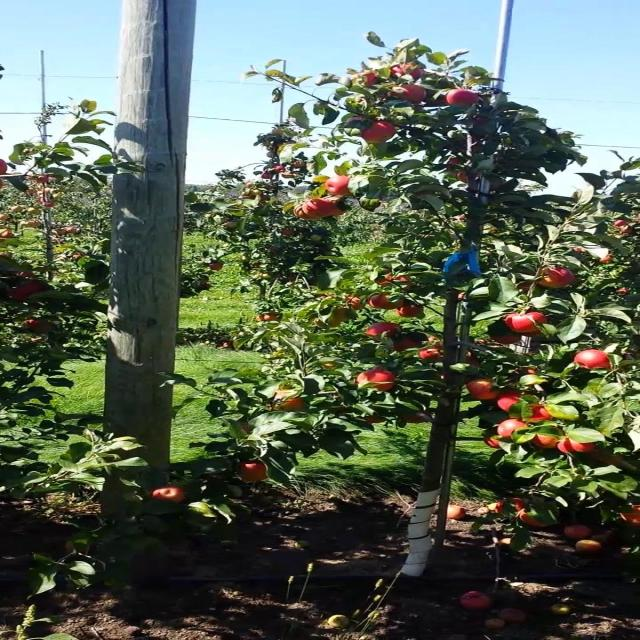apple: (504, 312, 549, 336), (362, 124, 398, 144), (362, 372, 398, 392), (540, 268, 576, 288), (390, 84, 427, 103), (13, 284, 48, 303), (468, 380, 501, 400), (575, 352, 612, 369), (561, 436, 597, 453), (276, 392, 306, 412), (390, 64, 427, 80), (241, 464, 270, 484), (525, 404, 555, 423), (326, 176, 354, 196), (497, 420, 526, 439), (369, 296, 405, 311), (497, 392, 524, 412), (447, 92, 482, 107), (376, 272, 411, 287), (305, 200, 331, 218), (497, 500, 526, 516), (156, 488, 185, 503), (397, 304, 425, 319), (369, 324, 400, 337), (611, 220, 635, 235), (298, 204, 320, 220), (28, 320, 55, 333), (532, 436, 560, 448), (525, 512, 546, 528), (596, 456, 626, 467), (404, 412, 430, 424), (511, 368, 539, 379), (348, 296, 368, 311), (490, 336, 523, 345), (326, 204, 348, 217), (397, 340, 420, 352), (625, 508, 639, 527), (419, 348, 441, 360), (362, 72, 379, 87), (454, 172, 473, 184), (326, 316, 345, 328), (333, 308, 352, 319), (518, 284, 537, 292), (369, 416, 386, 424), (596, 256, 613, 264), (447, 160, 462, 167), (490, 440, 501, 448), (326, 364, 336, 369), (476, 120, 485, 125)
